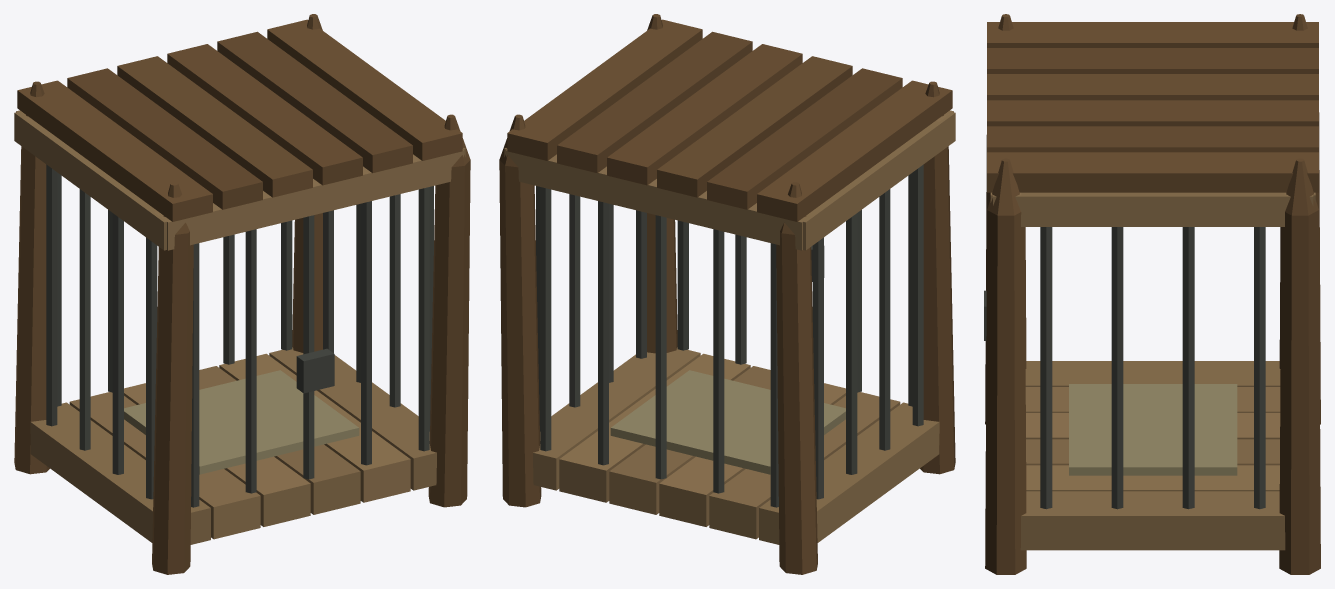
Rendered from empty-cage.glb.
3 views of the same model, side by side, from view 1: azimuth 30°, elevation 25°; view 2: azimuth 150°, elevation 25°; view 3: azimuth 270°, elevation 25° (orthographic). The views are drawn at different scales.
Parts seen in each view (by area): view 1: empty-cage; view 2: empty-cage; view 3: empty-cage.
Part boxes in pixels (x1,y1,x2,y2): empty-cage: [14, 14, 470, 574]; empty-cage: [499, 14, 955, 574]; empty-cage: [984, 14, 1320, 574].
Bounding box in the file's own units: 1.63 × 1.9 × 1.42.
